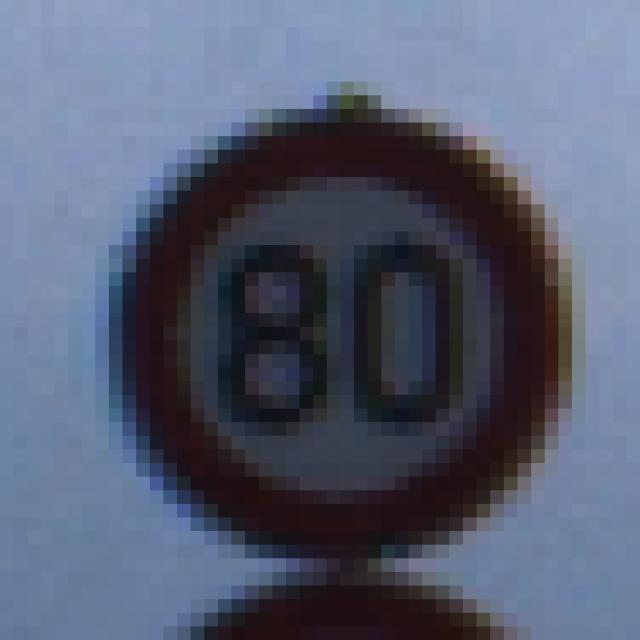Ograniczenie predkosci do 80: (136, 120, 564, 552)
